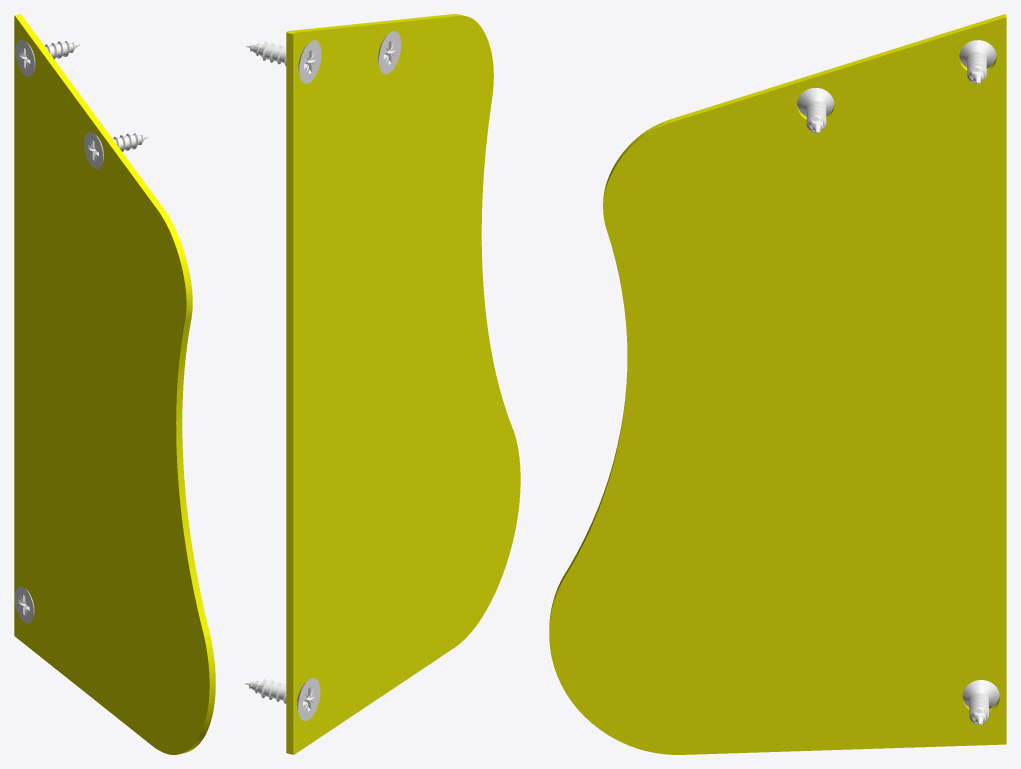
Rendered from wallCapRight.glb.
The picture shows the model from 3 angles, left to right: view 1: azimuth 30°, elevation 25°; view 2: azimuth 150°, elevation 25°; view 3: azimuth 270°, elevation 25°; orthographic projection. The views are drawn at different scales.
Visible parts, largest first — view 1: Wandprofil_Deckel_1_1, Group4, Group3, Group5; view 2: Wandprofil_Deckel_1_1, Group5, Group3, Group4; view 3: Wandprofil_Deckel_1_1, Group4, Group5, Group3.
Part boxes in pixels (x1,y1,x2,y2): Wandprofil_Deckel_1_1: (14, 14, 215, 754); Group4: (84, 132, 148, 169); Group3: (15, 39, 80, 76); Group5: (14, 586, 34, 623); Wandprofil_Deckel_1_1: (286, 14, 520, 754); Group5: (244, 678, 320, 720); Group3: (245, 40, 321, 83); Group4: (378, 31, 401, 74); Wandprofil_Deckel_1_1: (549, 14, 1006, 754); Group4: (797, 88, 834, 133); Group5: (962, 680, 999, 725); Group3: (959, 40, 996, 83).
Size of the model in its own units: 0.018 by 0.1946 by 0.1094.
2 materials, 1 textured.
